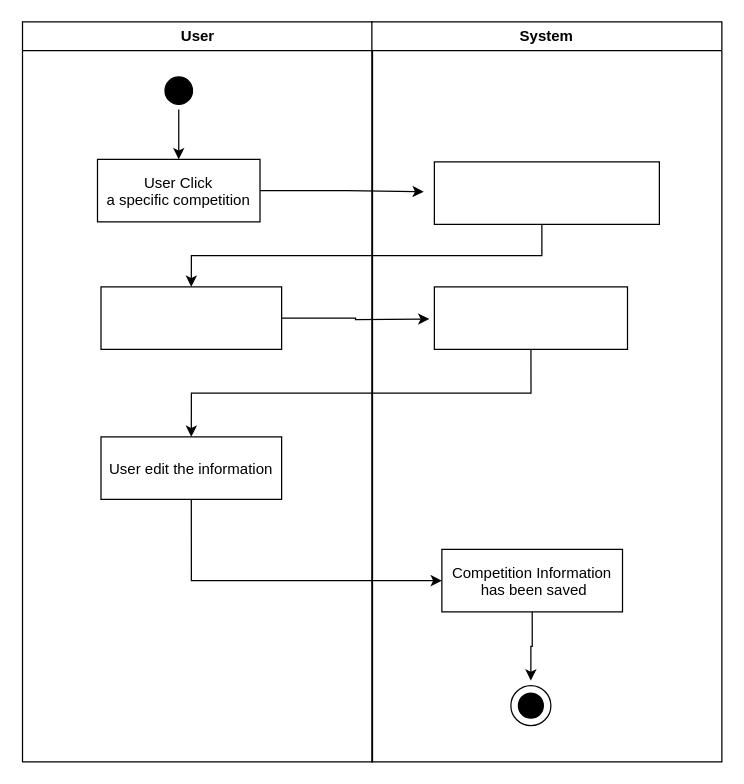
The diagram is 744 pixels wide and 784 high, and some of its shapes have lost their labels. Each missing label, with the box of its shape:
Competition Information Appear in the right side: (433, 161, 659, 224)
System allow the user to edit: (433, 286, 628, 349)
User Click✏️: (100, 286, 282, 349)
